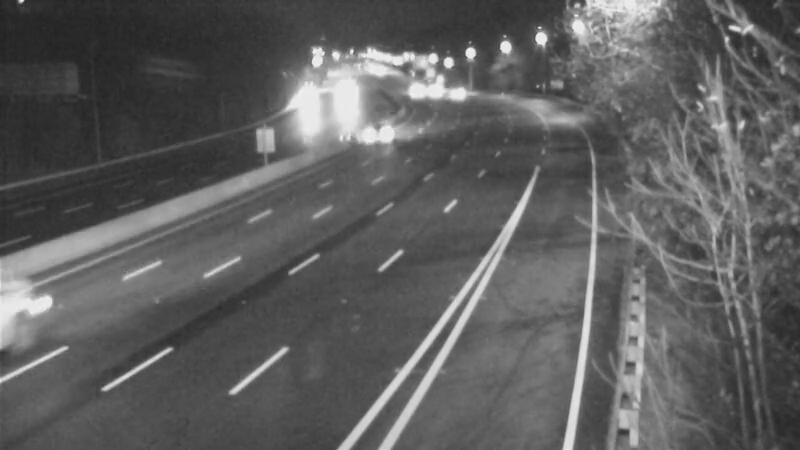vehicle: (431, 67, 481, 117), (392, 67, 442, 117), (354, 100, 404, 150), (320, 74, 370, 124)
